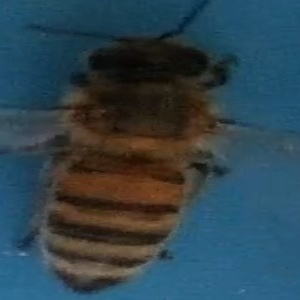bee: (10, 3, 293, 297)
